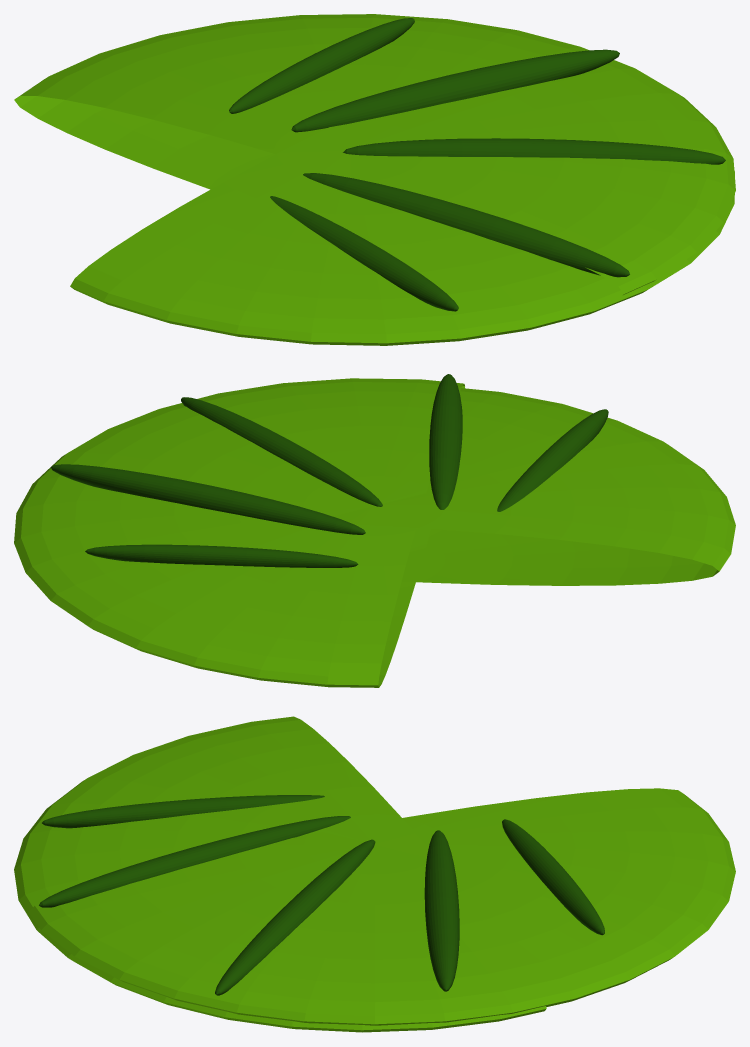
Rendered from lilypad.fbx.
3 renders of one model, top to bottom at view 1: azimuth 30°, elevation 25°; view 2: azimuth 150°, elevation 25°; view 3: azimuth 270°, elevation 25°, orthographic. The views are drawn at different scales.
Parts seen in each view (by area): view 1: Sphere, Sphere.001, Sphere.003, Sphere.004, Sphere.002, Sphere.005, Sphere.006; view 2: Sphere, Sphere.001, Sphere.003, Sphere.005, Sphere.002, Sphere.004, Sphere.006; view 3: Sphere, Sphere.001, Sphere.004, Sphere.003, Sphere.002, Sphere.006, Sphere.005.
Boxes of the visible parts, bbox=[...] form: Sphere: bbox=[14, 14, 735, 294]; Sphere.001: bbox=[70, 123, 734, 345]; Sphere.003: bbox=[291, 49, 619, 132]; Sphere.004: bbox=[303, 173, 629, 277]; Sphere.002: bbox=[343, 138, 725, 164]; Sphere.005: bbox=[229, 18, 414, 113]; Sphere.006: bbox=[270, 196, 458, 311]; Sphere: bbox=[14, 378, 464, 687]; Sphere.001: bbox=[332, 388, 735, 585]; Sphere.003: bbox=[51, 464, 365, 534]; Sphere.005: bbox=[85, 544, 358, 567]; Sphere.002: bbox=[181, 397, 382, 506]; Sphere.004: bbox=[429, 374, 462, 509]; Sphere.006: bbox=[497, 409, 608, 511]; Sphere: bbox=[28, 788, 735, 1025]; Sphere.001: bbox=[14, 716, 546, 1032]; Sphere.004: bbox=[39, 816, 350, 907]; Sphere.003: bbox=[424, 830, 459, 991]; Sphere.002: bbox=[215, 839, 375, 995]; Sphere.006: bbox=[42, 795, 324, 828]; Sphere.005: bbox=[502, 819, 604, 935].
Bounding box in the file's own units: 197 × 20.75 × 200.
